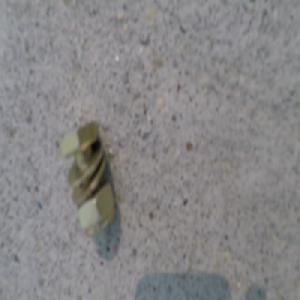BoltNutSet: (58, 118, 113, 230)
